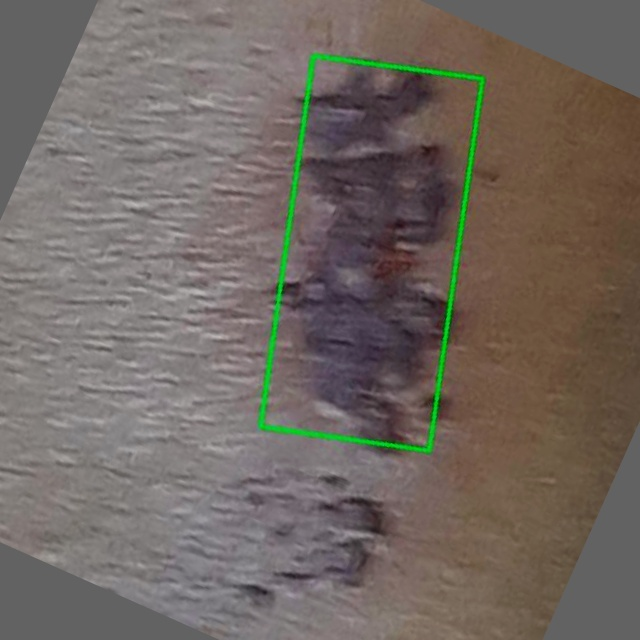Atopic Dermatitis: (259, 55, 481, 450)
